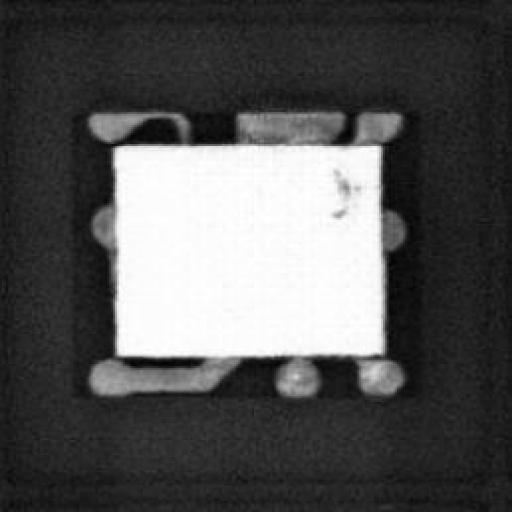DIE_INK: (324, 167, 357, 216)
